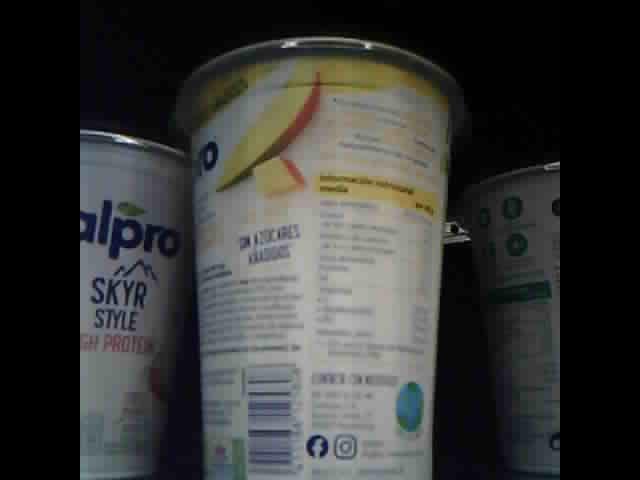alpro: (171, 36, 462, 480), (79, 117, 195, 477), (458, 161, 560, 479)
